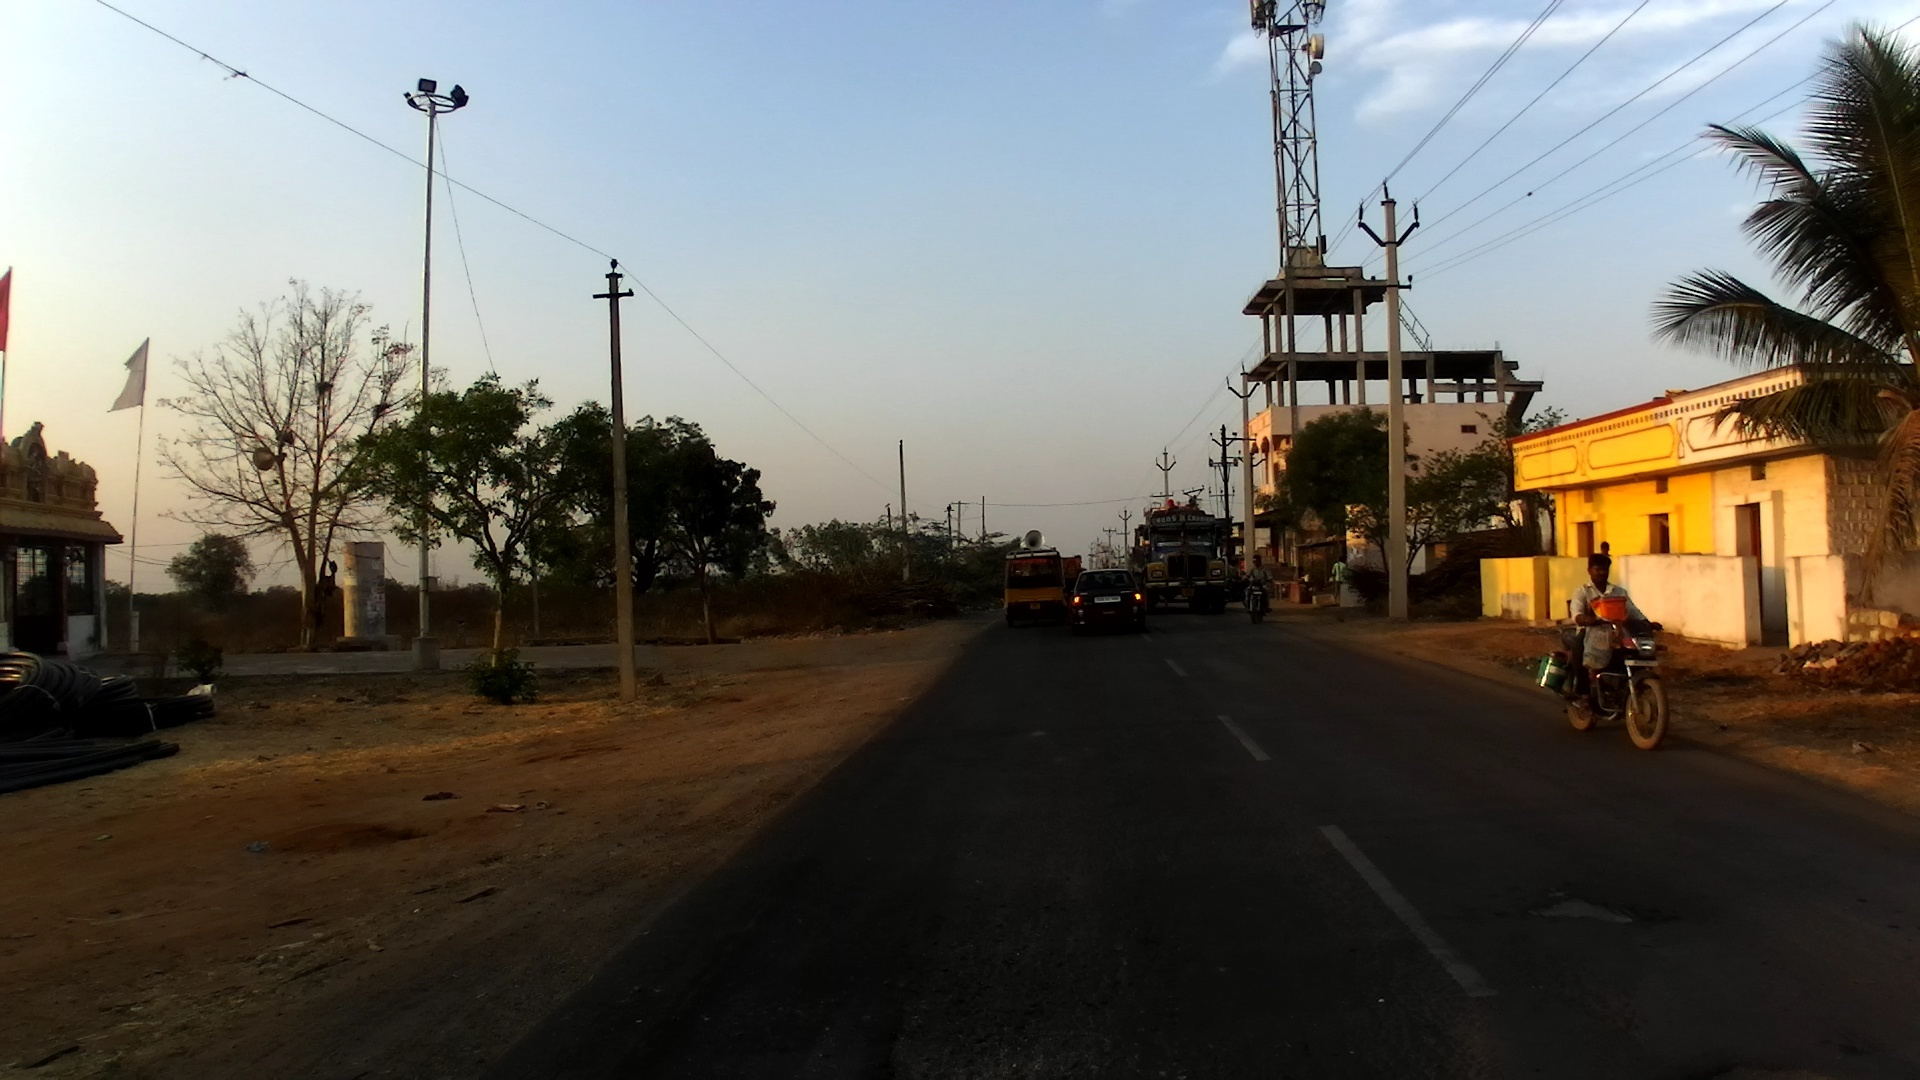autorickshaw: (998, 532, 1070, 625)
car: (1071, 568, 1151, 640)
motorcycle: (1534, 615, 1674, 758), (1239, 568, 1271, 624)
person: (1331, 556, 1350, 602), (1598, 539, 1613, 560)
rider: (1566, 553, 1664, 710), (1244, 551, 1275, 619), (1186, 497, 1202, 511), (1169, 497, 1180, 513)
truck: (1123, 503, 1233, 614)
vehicle fallback: (1060, 554, 1086, 590)
